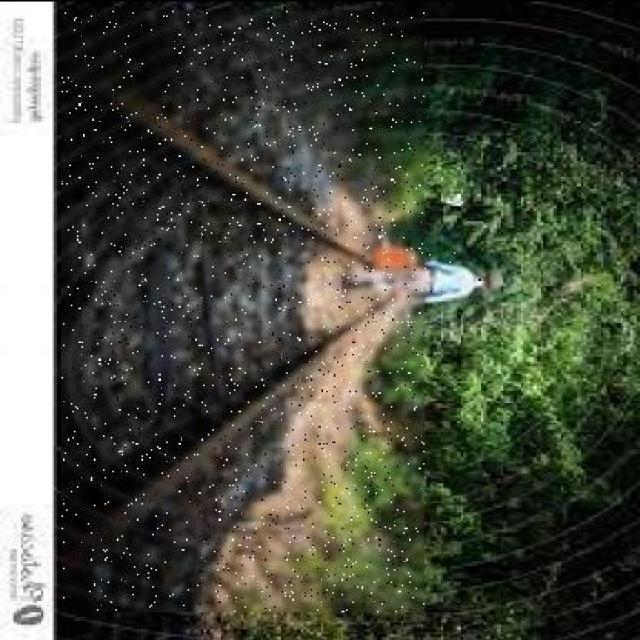rail: (63, 10, 425, 610)
